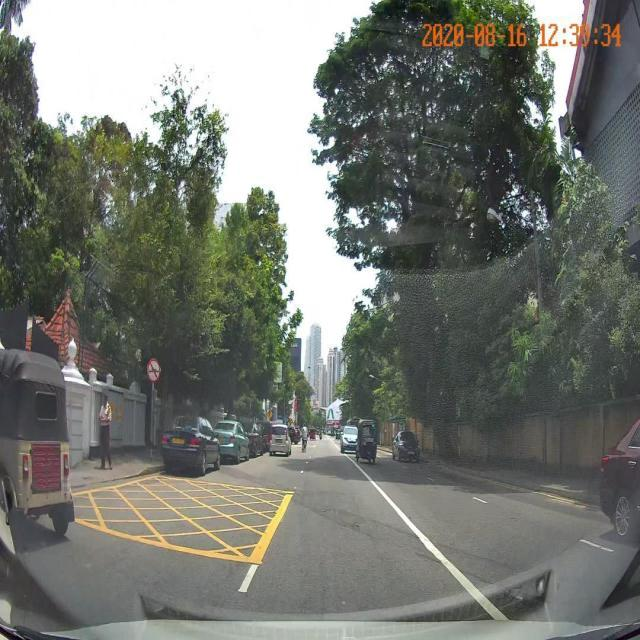Jeltaya razmetka: (72, 475, 297, 567)
Liniya 1: (344, 452, 510, 621)
